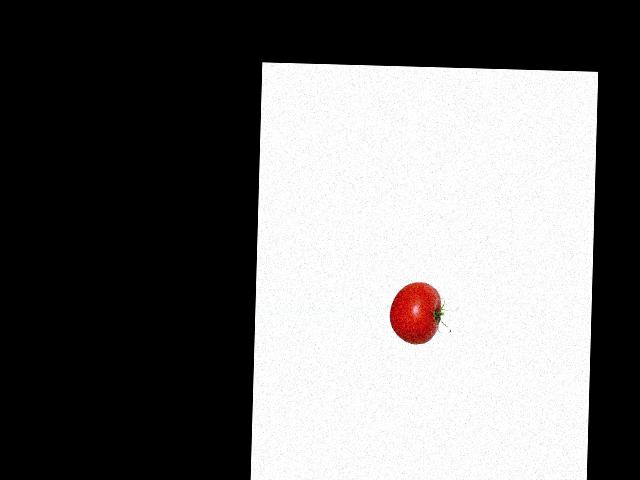tomato: (389, 281, 441, 344)
